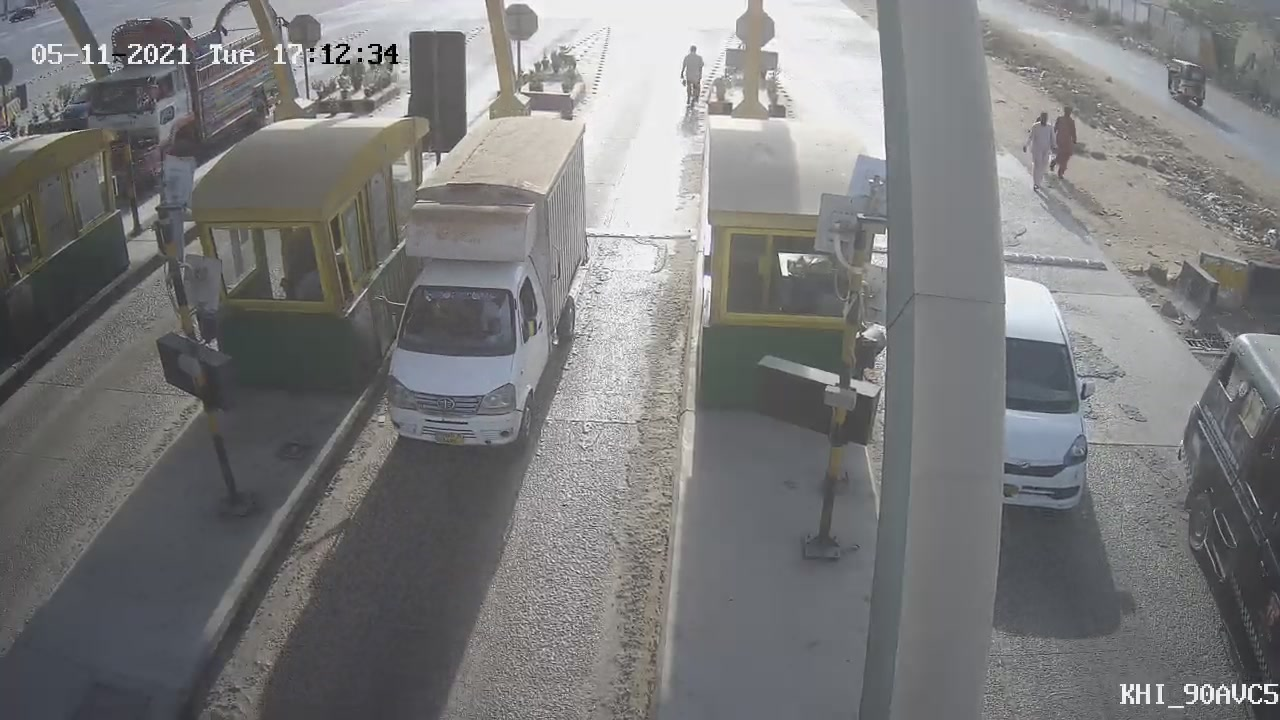F2: (351, 94, 629, 473)
